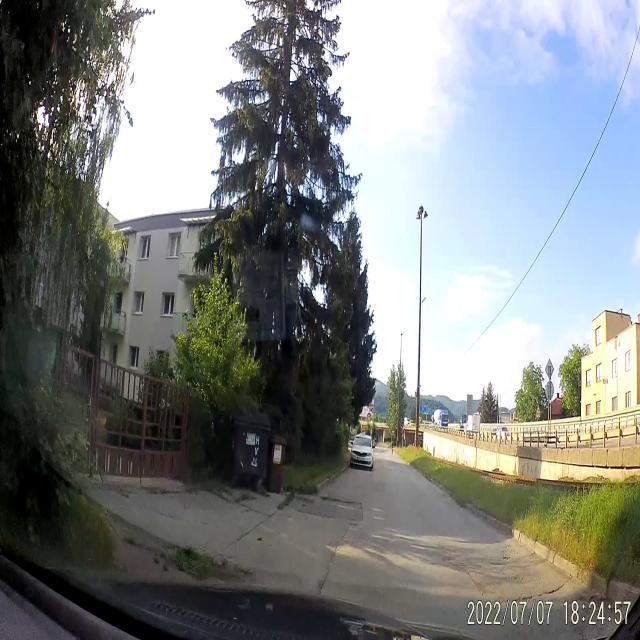Pothole: (314, 492, 366, 512)
